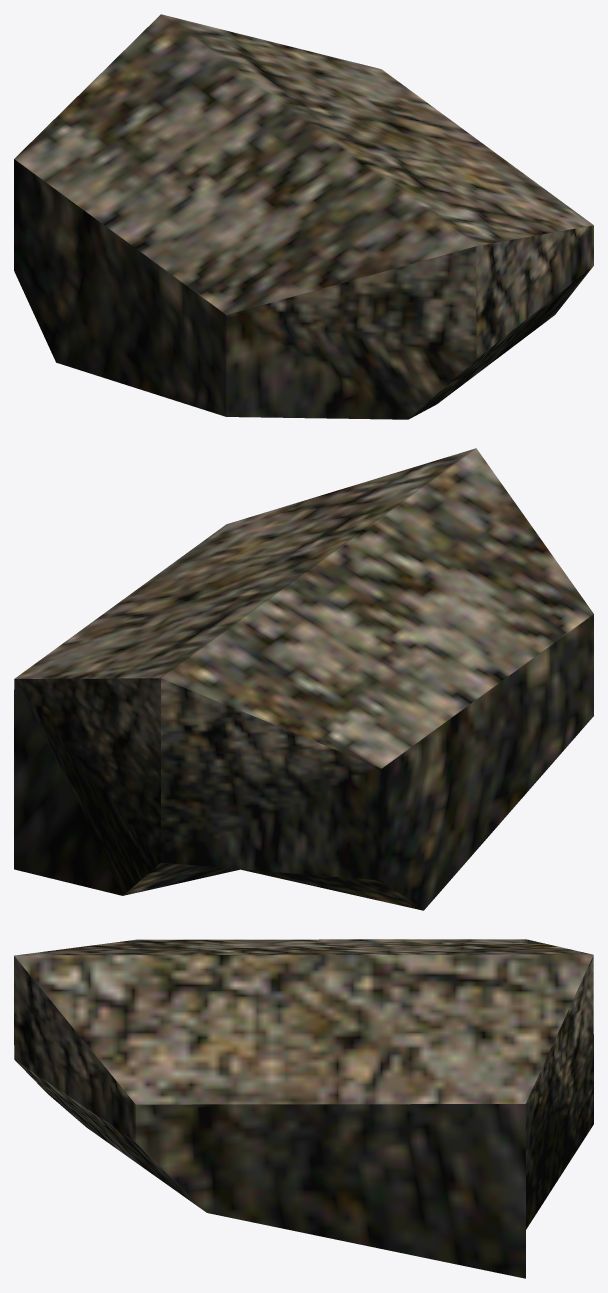
3 renders of one model, top to bottom at view 1: azimuth 30°, elevation 25°; view 2: azimuth 150°, elevation 25°; view 3: azimuth 270°, elevation 25°, orthographic. The views are drawn at different scales.
Parts seen in each view (by area): view 1: rock2; view 2: rock2; view 3: rock2.
Boxes of the visible parts, x1,y1,x2,y2 form: rock2: (14,14,593,419); rock2: (14,448,593,910); rock2: (14,939,593,1278).
Size of the model in its own units: 2 by 1.37 by 2.97.
1 material, 1 textured.
